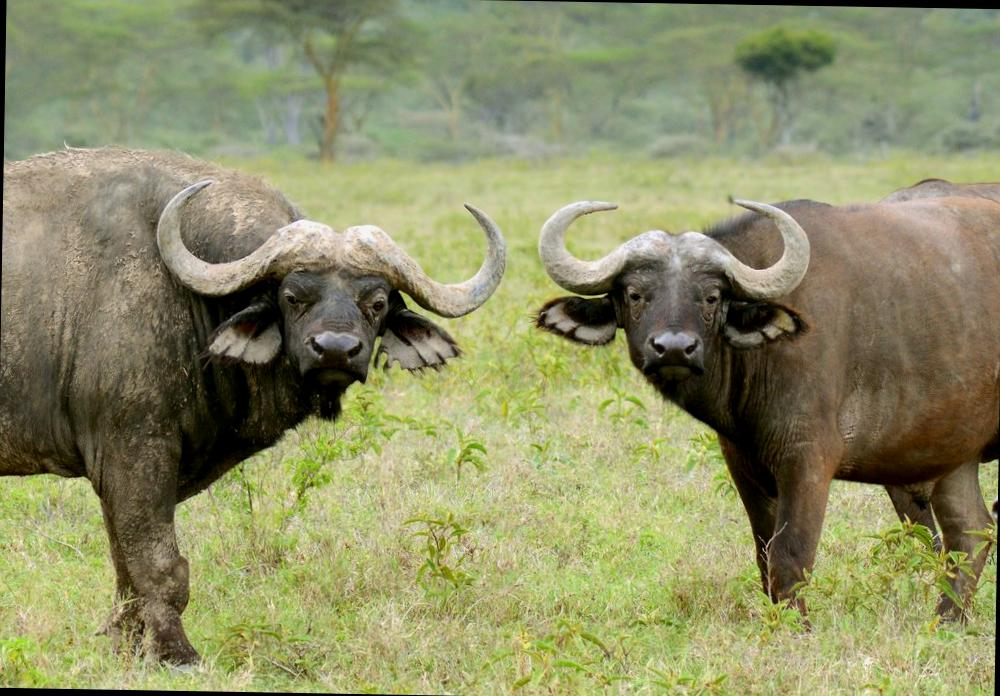Buffalo: (5, 88, 1000, 621)
